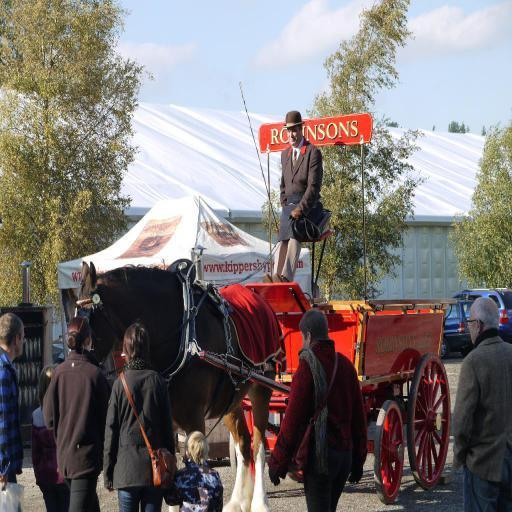horse: (66, 257, 286, 512)
